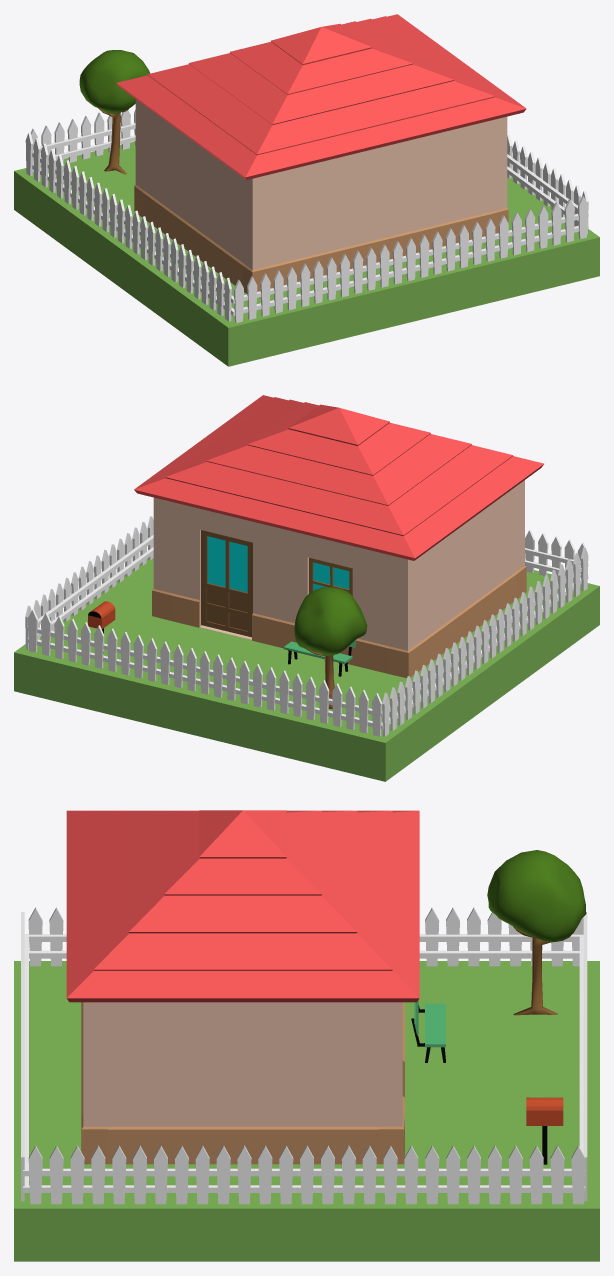
File: House1_4.fbx
3 views of the same model, one above another, from view 1: azimuth 30°, elevation 25°; view 2: azimuth 150°, elevation 25°; view 3: azimuth 270°, elevation 25° (orthographic). The views are drawn at different scales.
Parts seen in each view (by area): view 1: Walls, Roof, Ground, Fence, Tree; view 2: Ground, Roof, Walls, Fence, Door, Tree, Window, Bench, Mailbox; view 3: Ground, Roof, Walls, Fence, Tree, Bench, Mailbox.
Boxes of the visible parts, x1,y1,x2,y2 form: Walls: [134, 99, 508, 293]; Roof: [116, 14, 526, 179]; Ground: [14, 141, 599, 366]; Fence: [25, 109, 588, 323]; Tree: [79, 50, 150, 174]; Ground: [14, 558, 599, 781]; Roof: [134, 395, 543, 560]; Walls: [152, 480, 526, 678]; Fence: [25, 516, 588, 736]; Door: [201, 530, 252, 637]; Tree: [294, 587, 367, 709]; Window: [309, 557, 352, 595]; Bench: [283, 632, 355, 676]; Mailbox: [88, 601, 115, 653]; Ground: [14, 961, 599, 1261]; Roof: [66, 810, 419, 1002]; Walls: [81, 1002, 404, 1164]; Fence: [21, 907, 587, 1204]; Tree: [487, 850, 586, 1015]; Bench: [411, 1000, 445, 1062]; Mailbox: [526, 1097, 563, 1164].
Bounding box in the file's own units: 10 × 6.06 × 10.
